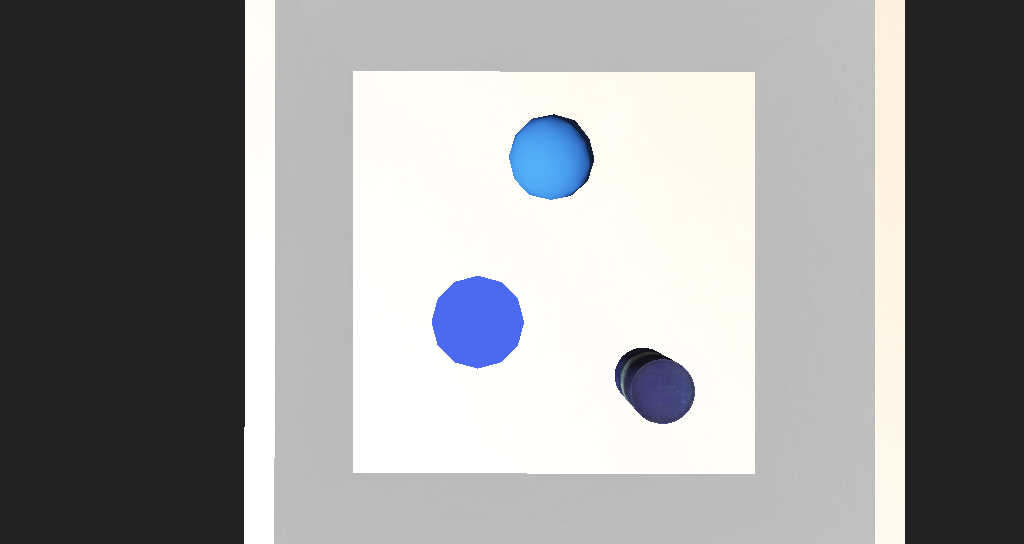cone: (556, 305, 603, 344)
cylinder: (421, 274, 482, 317)
sphere: (475, 188, 536, 231)
